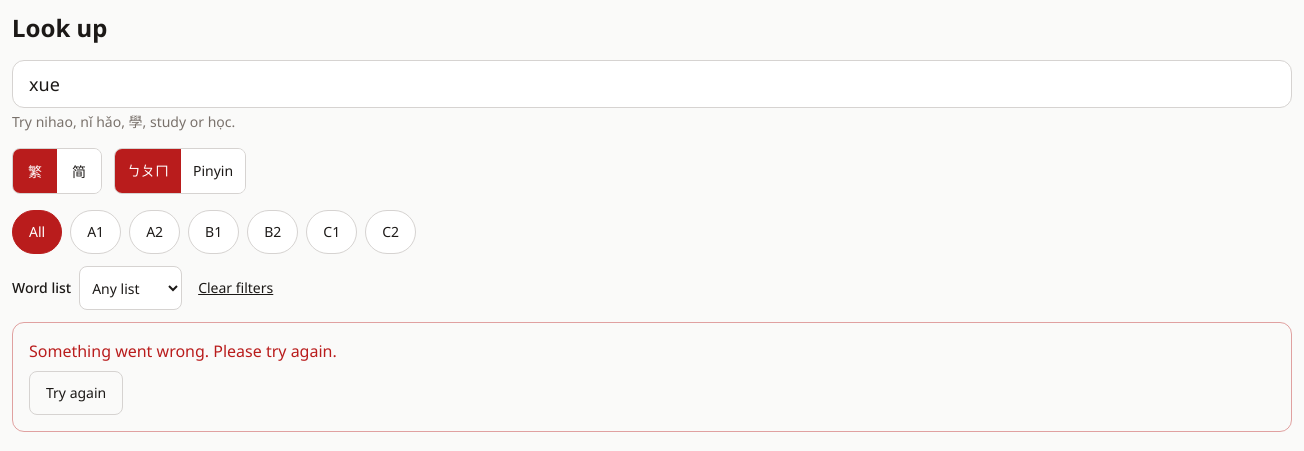
searching › shows a failure with a way to retry
Expected: the message "Something went wrong. Please try again. Try again" is shown, [12,322,1292,432]
Click the button "Try again": (76, 393) [29,371,123,415]
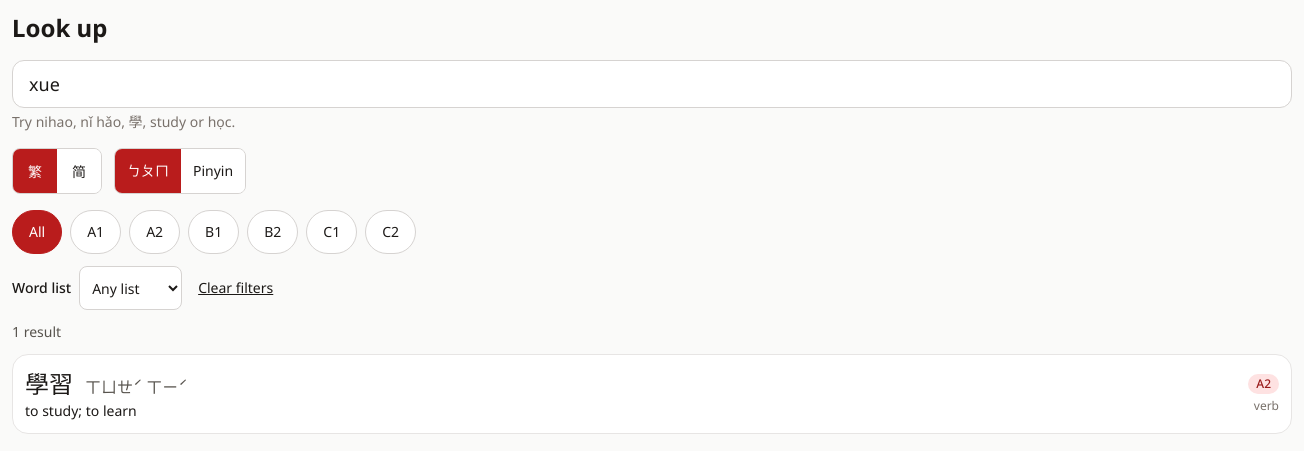
Result: the text "學習" is shown at [25,367,73,399]
